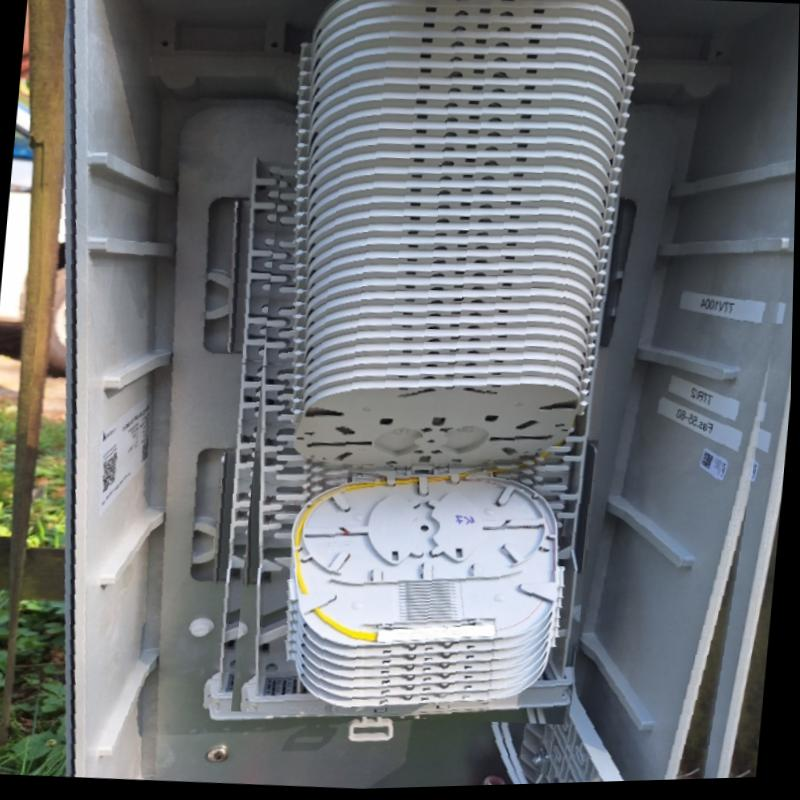NT-Gehause: (68, 0, 800, 791)
Spleiskassetten: (264, 0, 646, 716)
